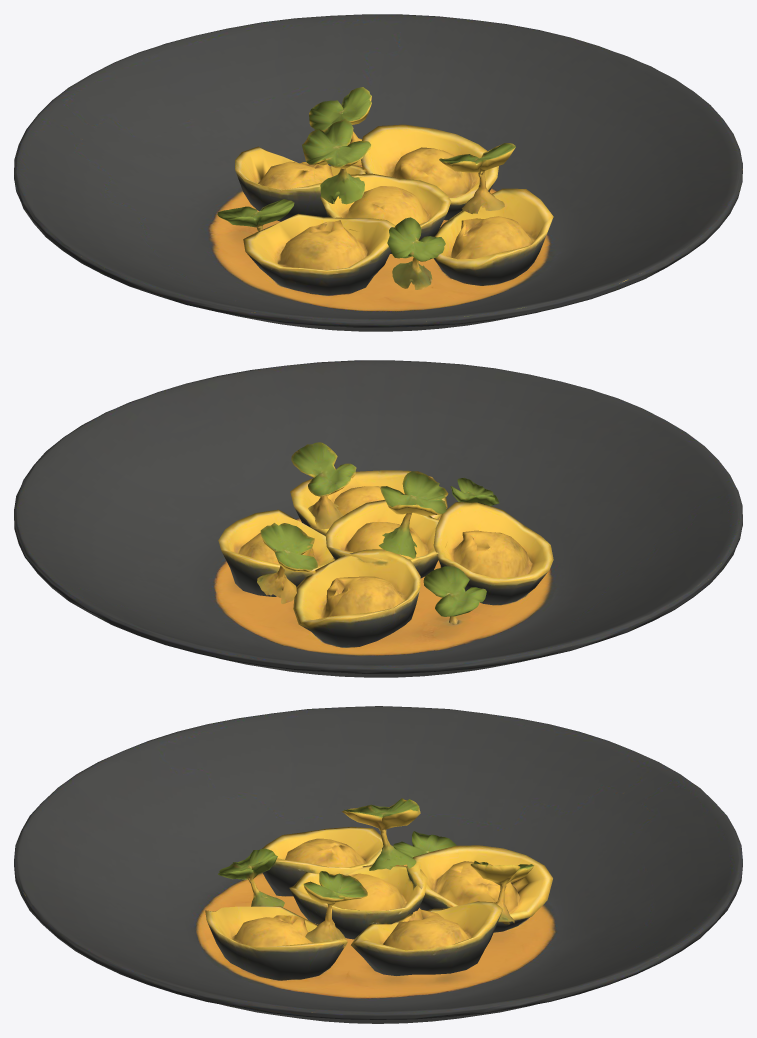
File: ramen.glb
The picture shows the model from 3 angles, top to bottom: view 1: azimuth 30°, elevation 25°; view 2: azimuth 150°, elevation 25°; view 3: azimuth 270°, elevation 25°; orthographic projection.
Parts seen in each view (by area): view 1: tripo_node_e47556a8-2087-44c2-aaca-7fd6342c1a58; view 2: tripo_node_e47556a8-2087-44c2-aaca-7fd6342c1a58; view 3: tripo_node_e47556a8-2087-44c2-aaca-7fd6342c1a58.
Boxes of the visible parts, x1,y1,x2,y2 form: tripo_node_e47556a8-2087-44c2-aaca-7fd6342c1a58: [14, 14, 742, 331]; tripo_node_e47556a8-2087-44c2-aaca-7fd6342c1a58: [14, 360, 742, 677]; tripo_node_e47556a8-2087-44c2-aaca-7fd6342c1a58: [14, 706, 742, 1023].
Size of the model in its own units: 4.96 by 1 by 4.96.
Materials: 1 (1 with a texture image).
